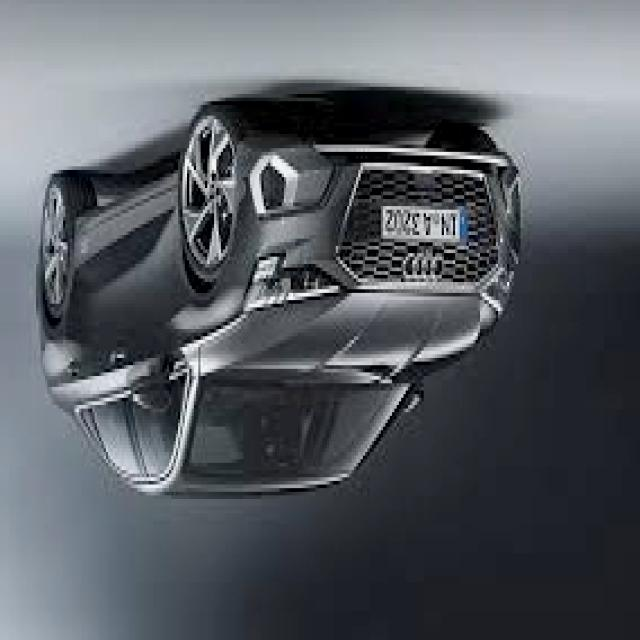black: (43, 112, 546, 512)
